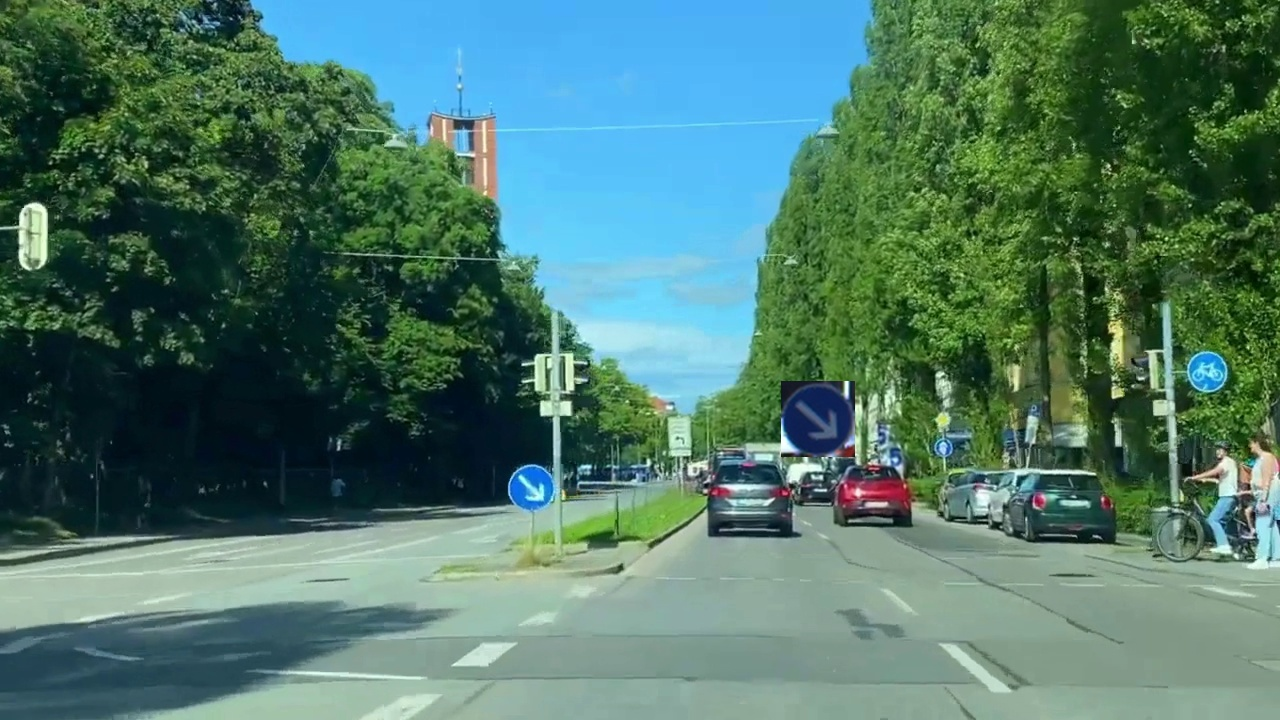Keep right: (781, 381, 855, 457)
